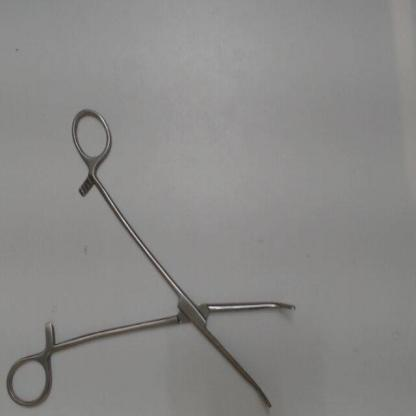Lahey Forceps: (3, 100, 304, 412)
